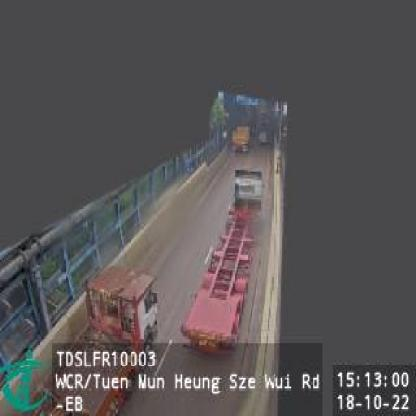Truck: (23, 263, 160, 416), (180, 168, 266, 358), (233, 123, 252, 153)
